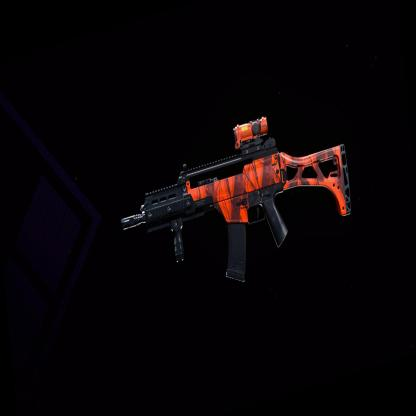rifle: (109, 74, 368, 330)
